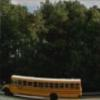buses: (2, 75, 82, 100)
